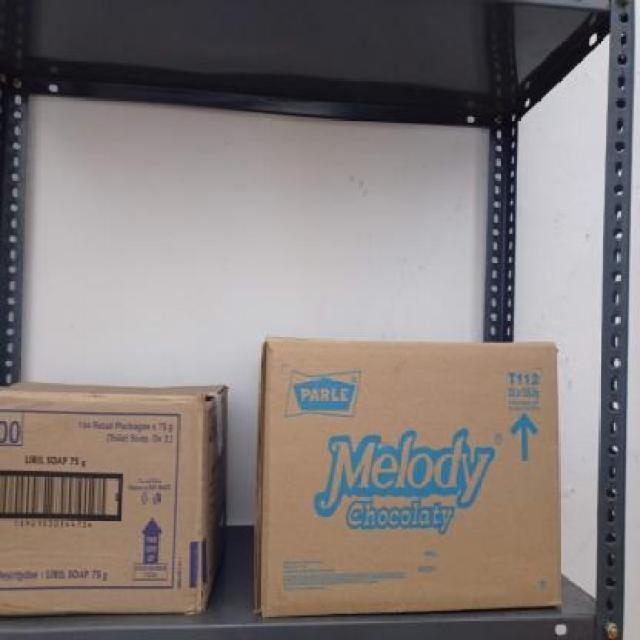box: (258, 334, 560, 612), (0, 396, 206, 616)
